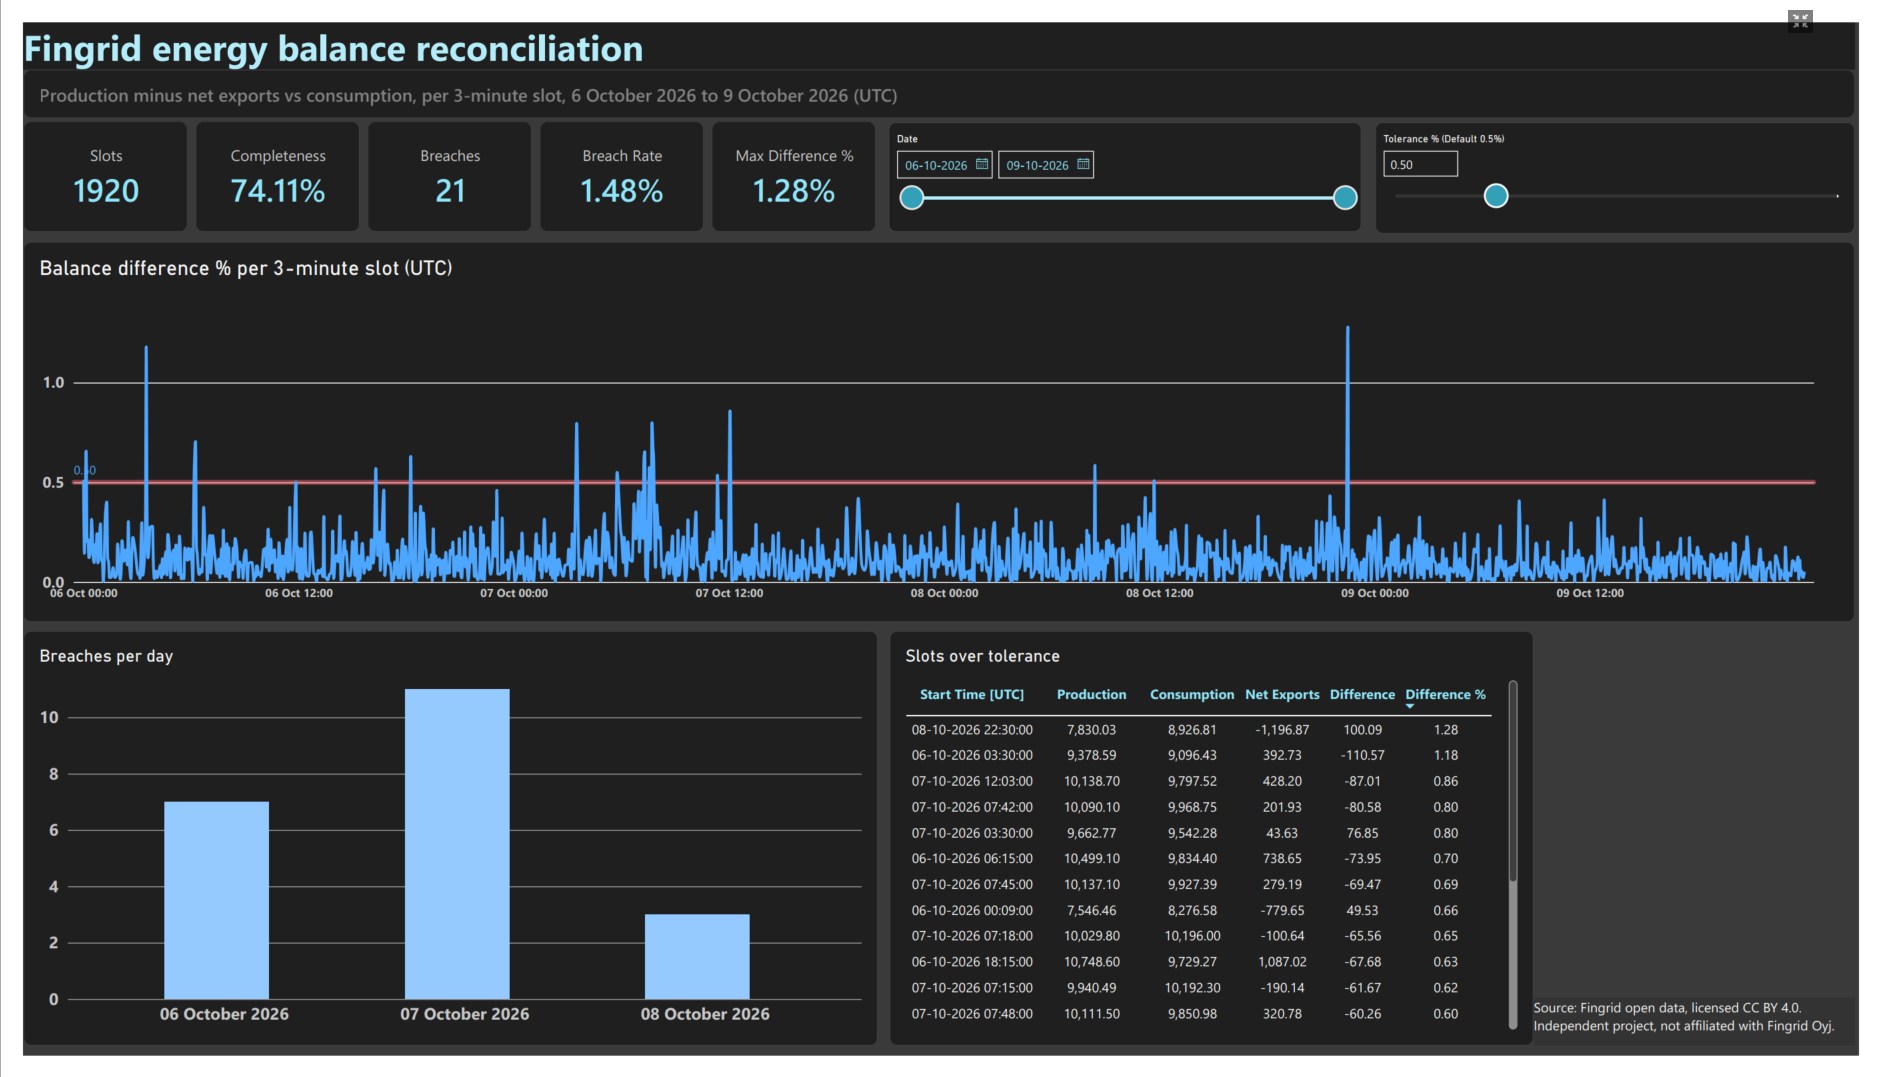

Layout of this report page (visuals, bound fields, positions):
{"tool":"powerbi","page":{"name":"Reconciliation overview","canvas":[1920,1080],"ordinal":0},"visuals":[{"type":"cardVisual","fields":{"Data":["recon_3min.Slots","recon_3min.Completeness","recon_3min.Breaches","recon_3min.Breach Rate","recon_3min.Max Difference %"]},"box":[0,103,893.6,115.8],"z":0},{"type":"lineChart","title":"Balance difference % per 3-minute slot (UTC)","fields":{"Category":["recon_3min.start_time"],"Y":["Max(recon_3min.difference_percent)"]},"box":[0,228.6,1915.7,398.6],"z":1000},{"type":"clusteredColumnChart","title":"Breaches per day","fields":{"Category":["recon_3min.Date"],"Y":["recon_3min.Breaches"]},"box":[0,635.7,894.3,434.3],"z":2000},{"type":"tableEx","title":"Slots over tolerance","fields":{"Values":["recon_3min.start_time","recon_3min.production","recon_3min.consumption","recon_3min.net_exports","recon_3min.difference","recon_3min.difference_percent"]},"box":[905.7,635.7,674.3,434.3],"z":3000},{"type":"slicer","fields":{"Values":["recon_3min.Date"]},"box":[905,104,495,115],"z":4000},{"type":"textbox","box":[1580,1020,336,50],"z":5000},{"type":"textbox","box":[0,0,1916,49],"z":6000},{"type":"cardVisual","fields":{"Data":["recon_3min.Report Period"]},"box":[0,49,1916,51],"z":7000},{"type":"slicer","fields":{"Values":["Tolerance.Tolerance"]},"box":[1414,104,502,117],"z":8000}]}

Visuals, with their boxes in screenshot pixels (x1, y1, x2, y2), scaled from the page's 1920x1080 canvas onto the 1879x1077 screenshot:
cardVisual - recon_3min.Slots x recon_3min.Completeness: bbox(0, 103, 875, 218)
"Balance difference % per 3-minute slot (UTC)" lineChart: bbox(0, 228, 1875, 625)
"Breaches per day" clusteredColumnChart: bbox(0, 634, 875, 1067)
"Slots over tolerance" tableEx: bbox(886, 634, 1546, 1067)
slicer - recon_3min.Date: bbox(886, 104, 1370, 218)
textbox: bbox(1546, 1017, 1875, 1067)
textbox: bbox(0, 0, 1875, 49)
cardVisual - recon_3min.Report Period: bbox(0, 49, 1875, 100)
slicer - Tolerance.Tolerance: bbox(1384, 104, 1875, 220)
